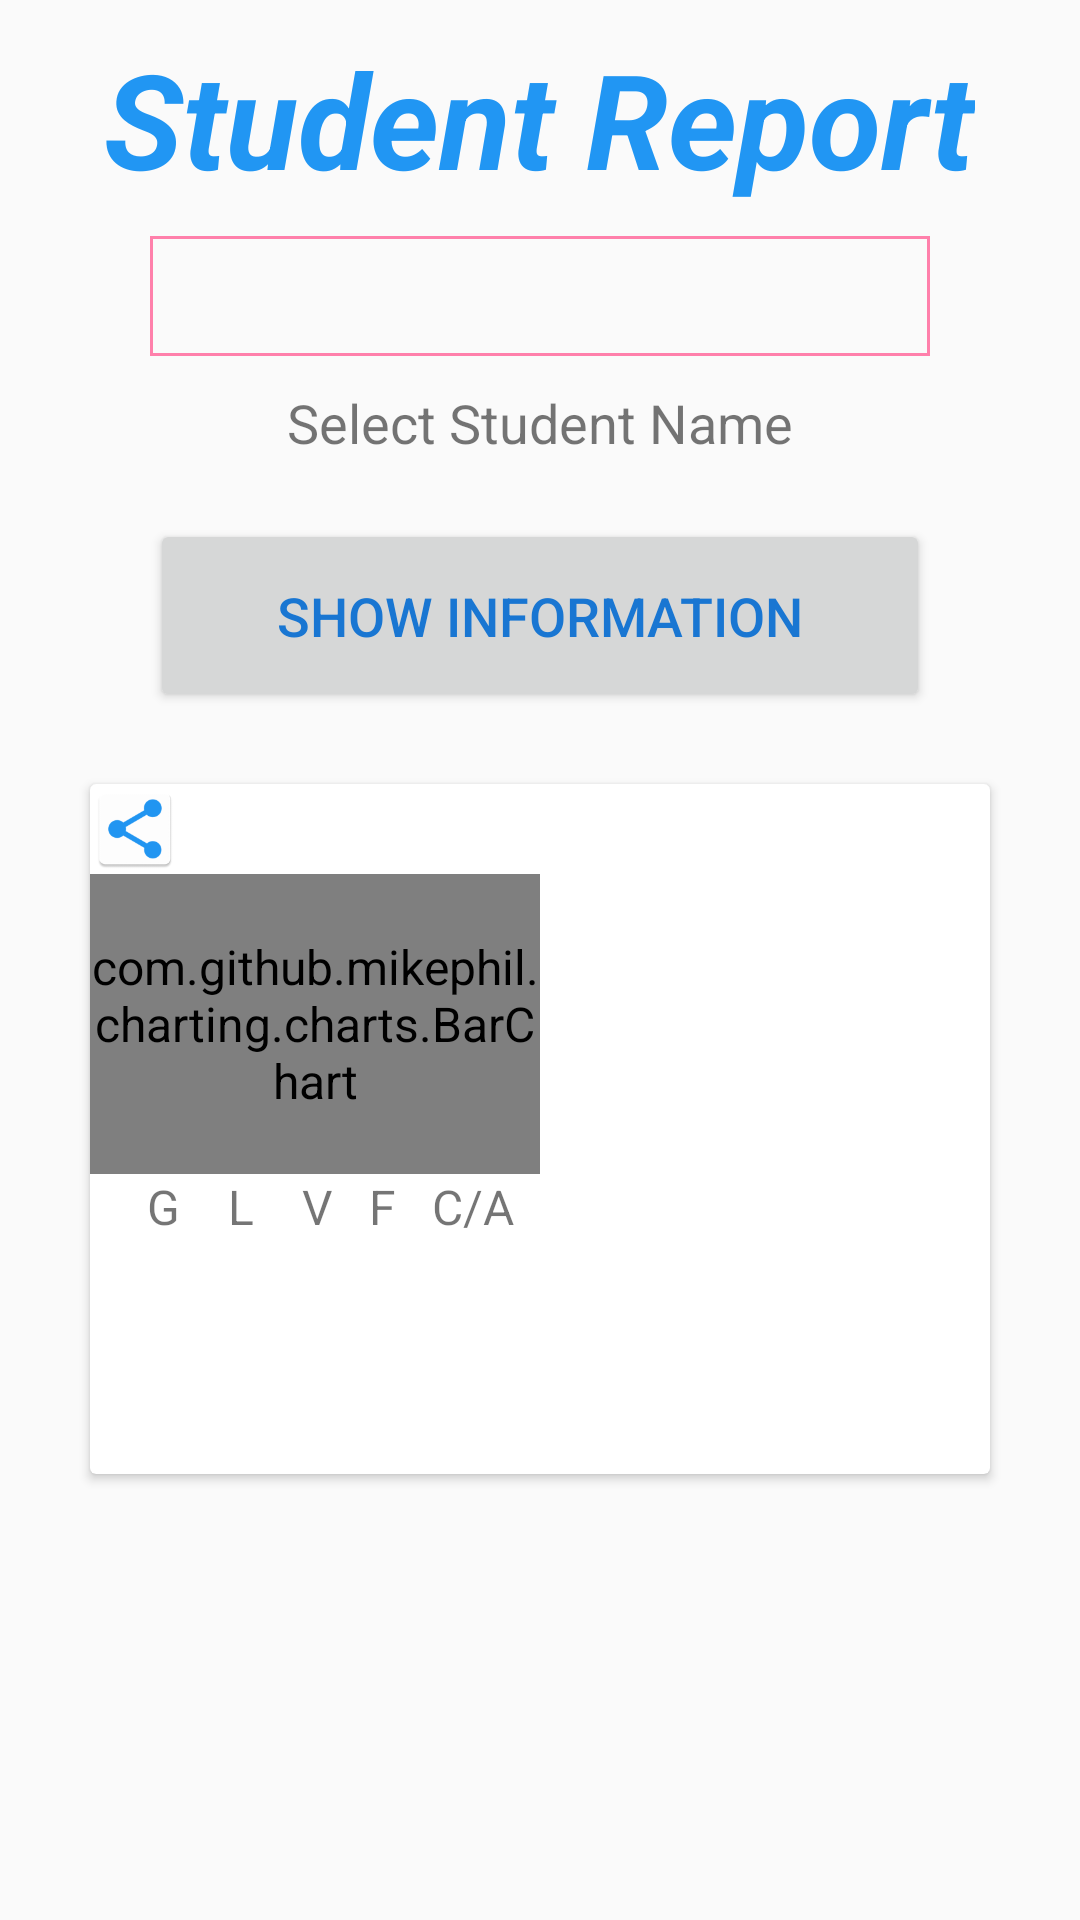

Where to tap for icons on this 1080×1920 app screen, as (x,y):
share: (135,832)
